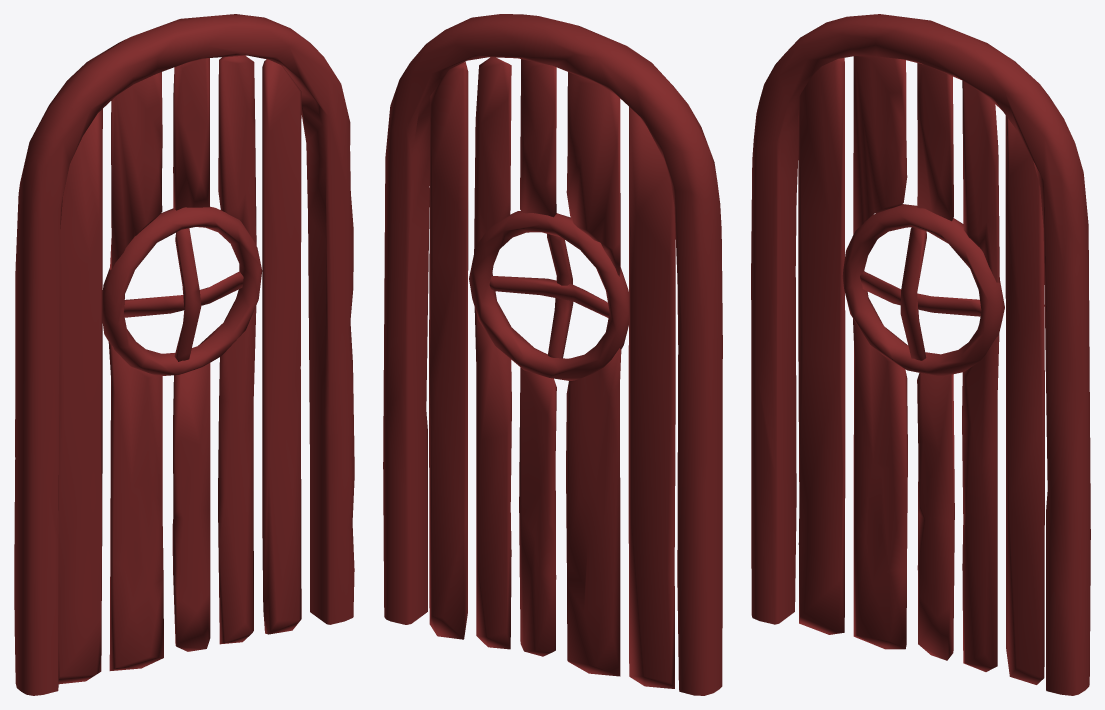
The model's file is SM_door_withborder.fbx.
3 views of the same model, side by side, from view 1: azimuth 30°, elevation 25°; view 2: azimuth 150°, elevation 25°; view 3: azimuth 330°, elevation 25° (orthographic).
Visible parts, largest first — view 1: door_withborder; view 2: door_withborder; view 3: door_withborder.
Part boxes in pixels (x1,y1,x2,y2): door_withborder: (14, 14, 354, 695); door_withborder: (383, 14, 722, 695); door_withborder: (751, 14, 1090, 695).
Size of the model in its own units: 137 by 254 by 16.63.
